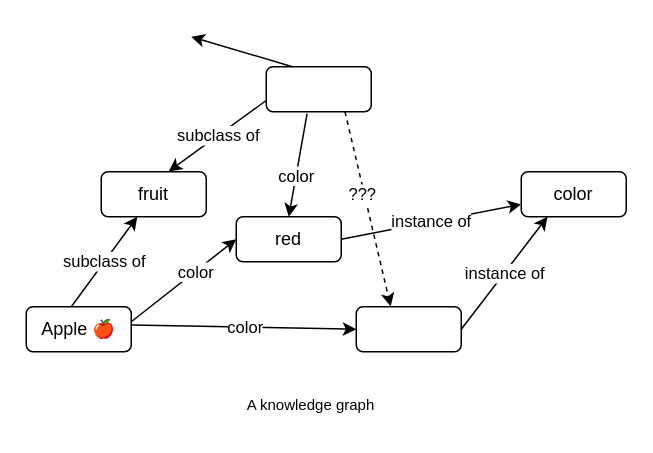
The diagram is 653 pixels wide and 453 high, and some of its shapes have lost their labels. Here are the shapes that lost their labels. From the top down, the box of each, then its label:
(265, 65, 371, 112): Pear 🍐
(355, 305, 461, 352): yellow
